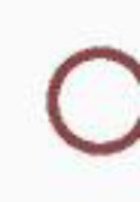RadioButton: (1, 1, 139, 201)
